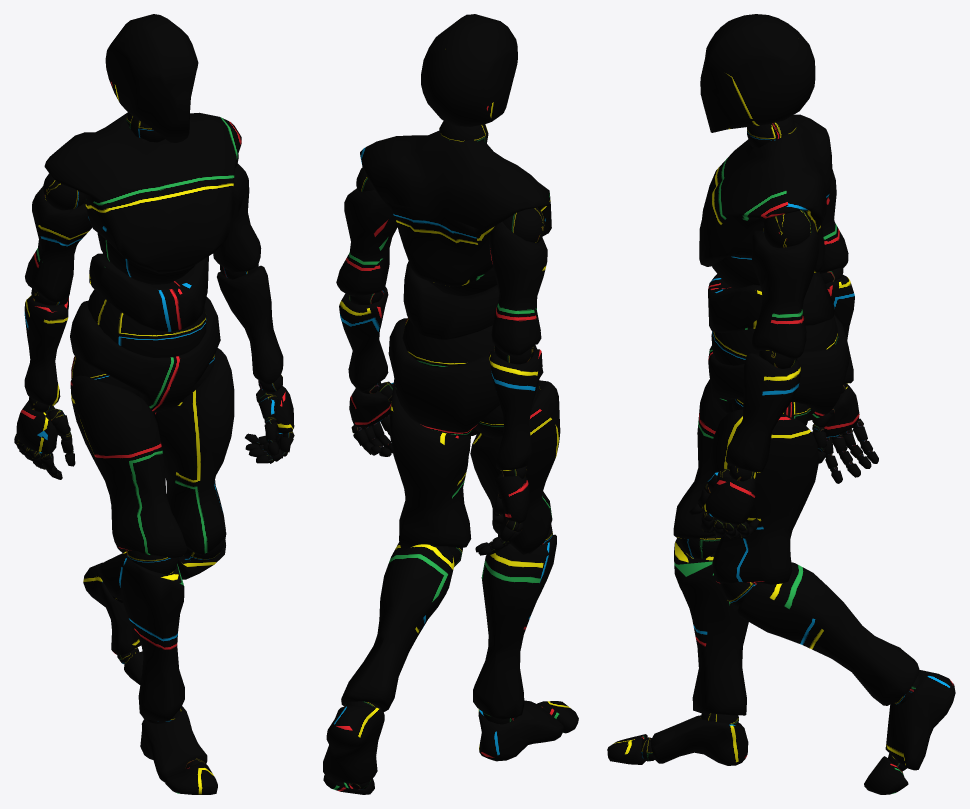
Rendered from y-bot-origin_000011.obj.
3 views of the same model, side by side, from view 1: azimuth 30°, elevation 25°; view 2: azimuth 150°, elevation 25°; view 3: azimuth 270°, elevation 25° (orthographic). The views are drawn at different scales.
Parts seen in each view (by area): view 1: Alpha_Surface_Alpha_SurfaceMesh, Alpha_Joints_Alpha_JointsMesh; view 2: Alpha_Surface_Alpha_SurfaceMesh, Alpha_Joints_Alpha_JointsMesh; view 3: Alpha_Surface_Alpha_SurfaceMesh, Alpha_Joints_Alpha_JointsMesh.
Part boxes in pixels (bbox=[...]): Alpha_Surface_Alpha_SurfaceMesh: bbox=[14, 14, 294, 794]; Alpha_Joints_Alpha_JointsMesh: bbox=[14, 112, 294, 769]; Alpha_Surface_Alpha_SurfaceMesh: bbox=[323, 14, 578, 794]; Alpha_Joints_Alpha_JointsMesh: bbox=[344, 121, 553, 789]; Alpha_Surface_Alpha_SurfaceMesh: bbox=[607, 14, 955, 794]; Alpha_Joints_Alpha_JointsMesh: bbox=[641, 116, 919, 771].
Size of the model in its own units: 0.5619 by 1.77 by 0.7444.
